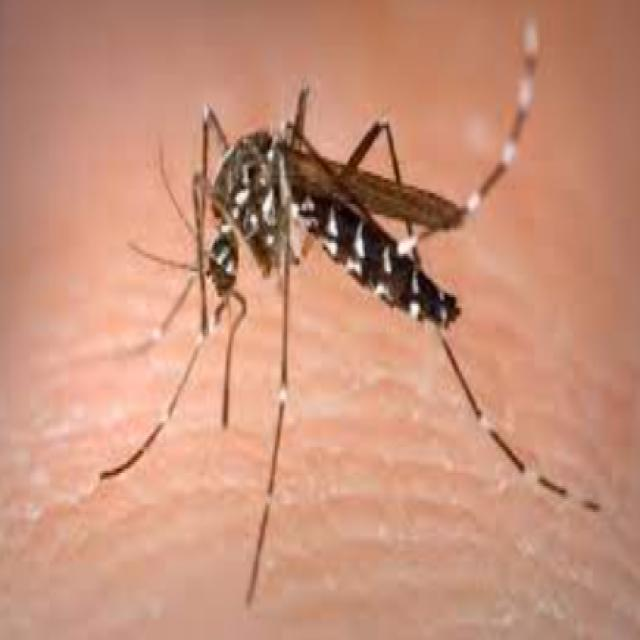Mosquito: (144, 56, 531, 640)
